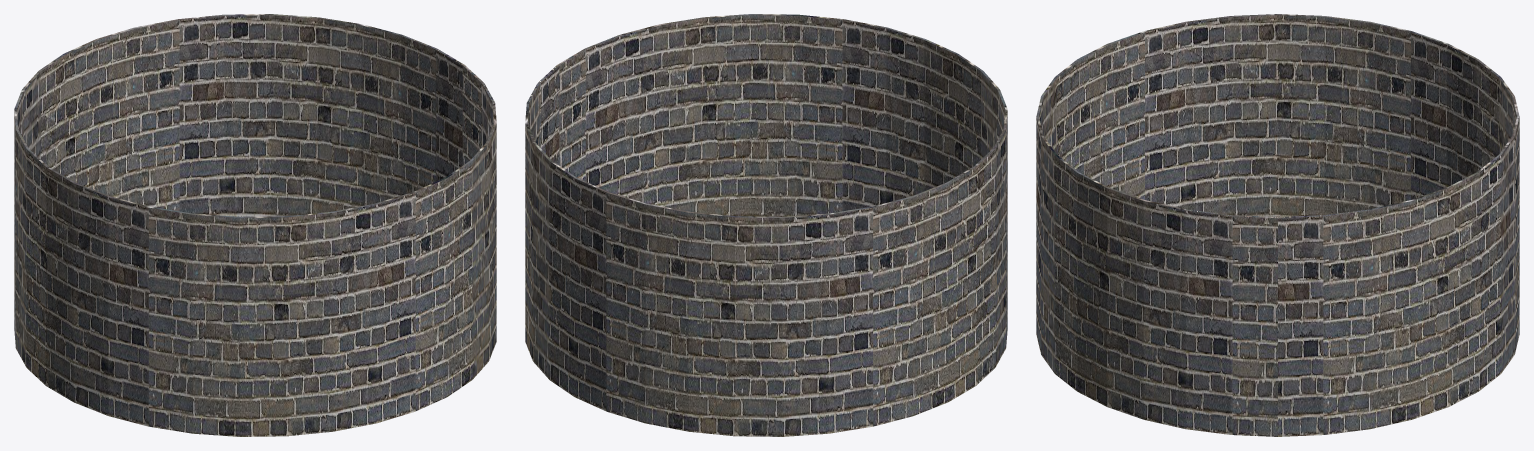
Rendered from MyBox.dae.
3 views of the same model, side by side, from view 1: azimuth 30°, elevation 25°; view 2: azimuth 150°, elevation 25°; view 3: azimuth 270°, elevation 25° (orthographic).
Parts seen in each view (by area): view 1: 柱体; view 2: 柱体; view 3: 柱体.
Part boxes in pixels (x1,y1,x2,y2): 柱体: (14, 14, 496, 436); 柱体: (525, 14, 1007, 436); 柱体: (1036, 14, 1519, 436).
Bounding box in the file's own units: 200 × 200 × 100.
1 material, 1 textured.
